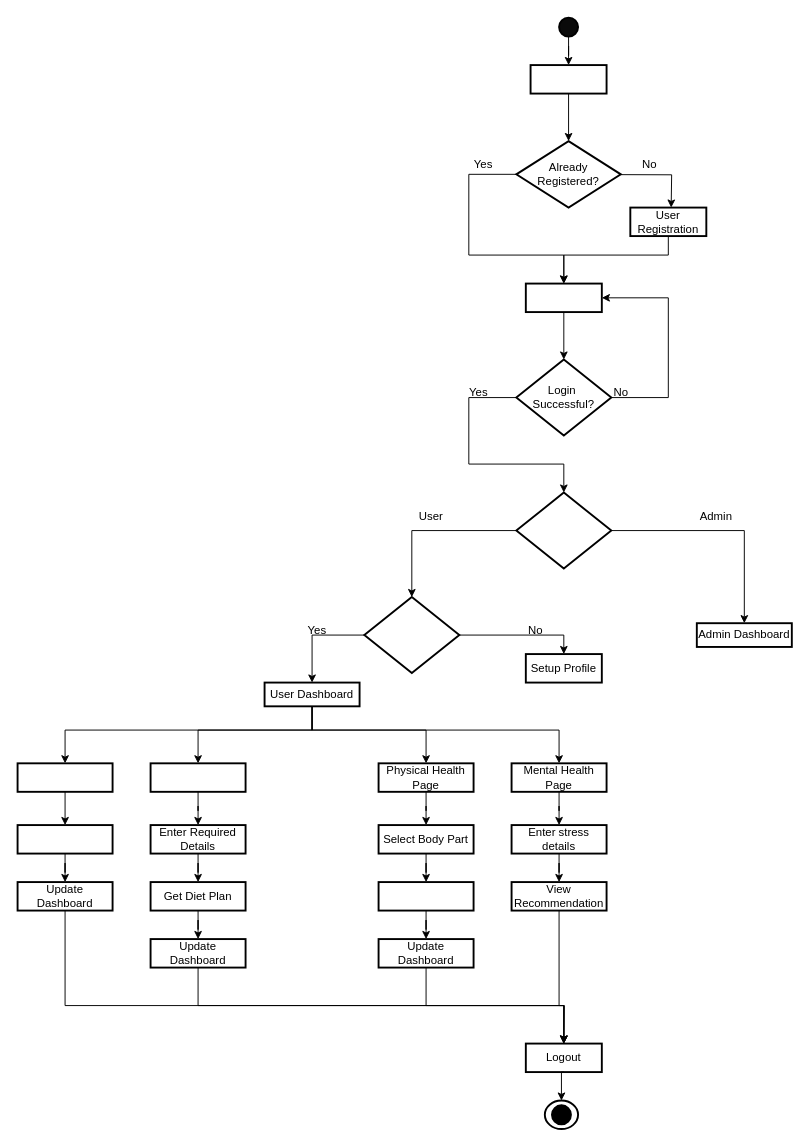
This 808x1146 diagram has some shape labels left out. Here are the shapes that lost their labels. From the top down, the centre of each, then its label:
At [568,79]: "Landing Page".
At [563,297]: "Login".
At [563,530]: "User Role?".
At [411,635]: "Profile Completed?".
At [64,777]: "Health Metrics Page".
At [197,777]: "Diet Page".
At [64,839]: "Getting User Data".
At [425,896]: "Get Exercise Plan".
